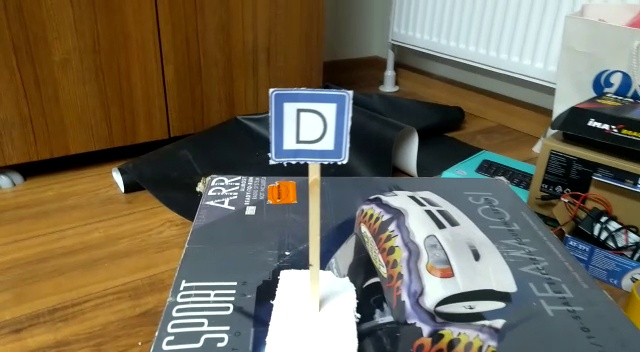durak: (268, 94, 350, 159)
